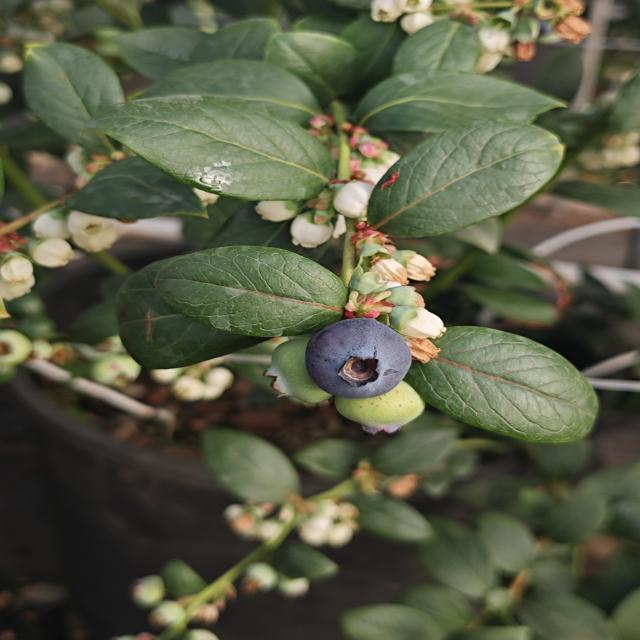ripe: (302, 316, 414, 401)
